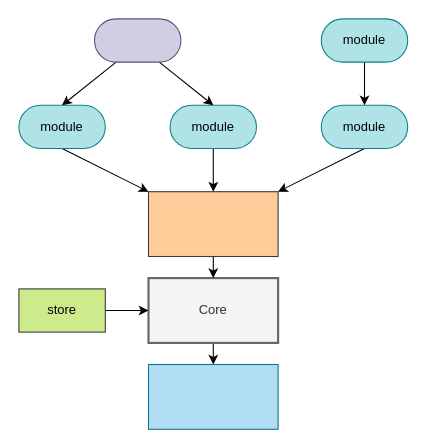
Image size: 427x448. Some labels were removed from this diagram. The centre of each missing label's shape, as x and y in pixels:
"Libraries jQuery" goes at [212,396].
"Sandbox" goes at [212,223].
"widget" goes at [137,40].
